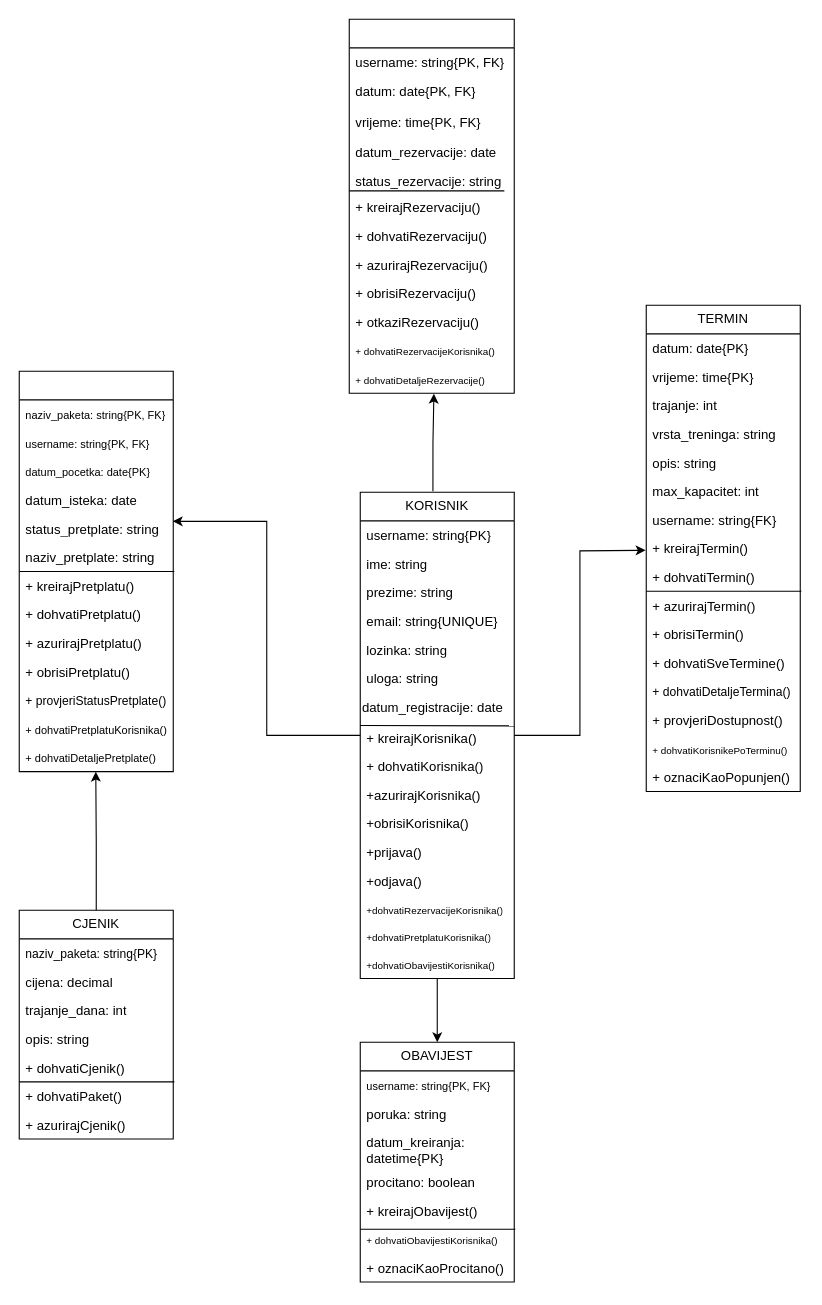
This 822x1305 diagram has some shape labels left out. Here are the shapes that lost their labels. From the top down, the box of each, then its label:
(348, 18, 514, 393): REZERVACIJA
(18, 370, 173, 772): PRETPLATA
